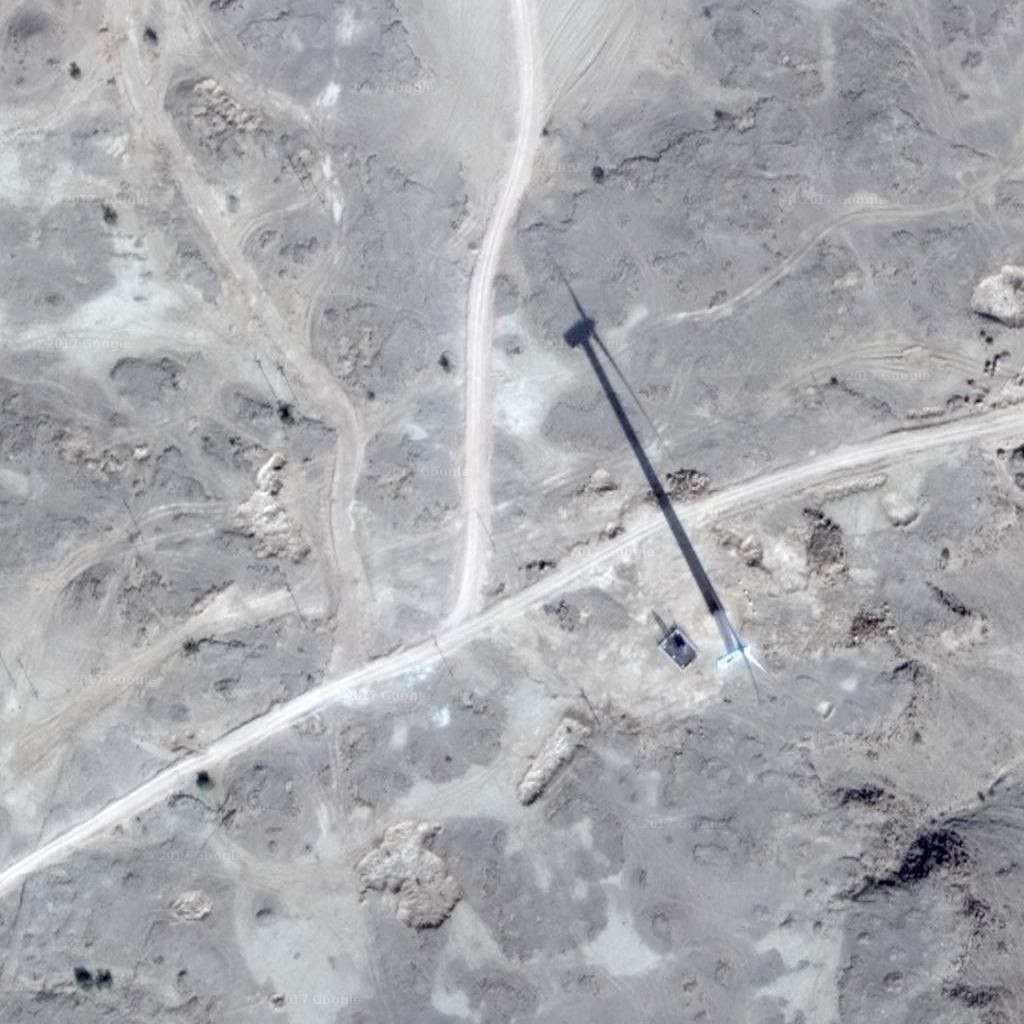Windmill: (541, 246, 733, 613)
